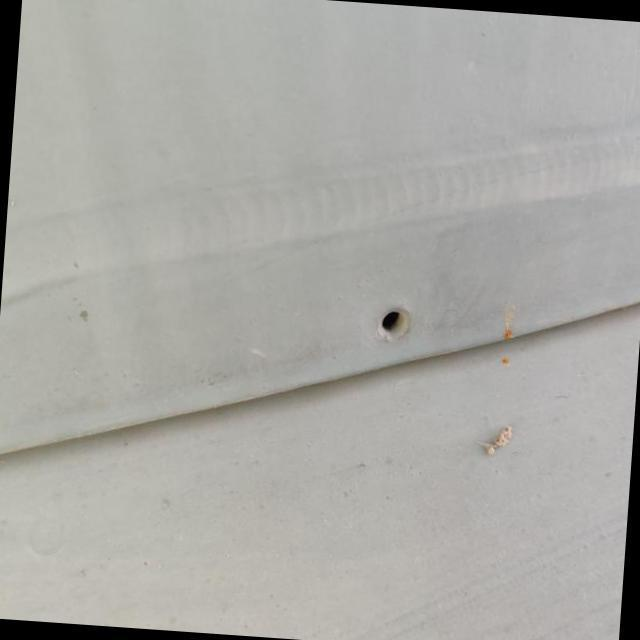Missing Fastener: (364, 297, 418, 348)
